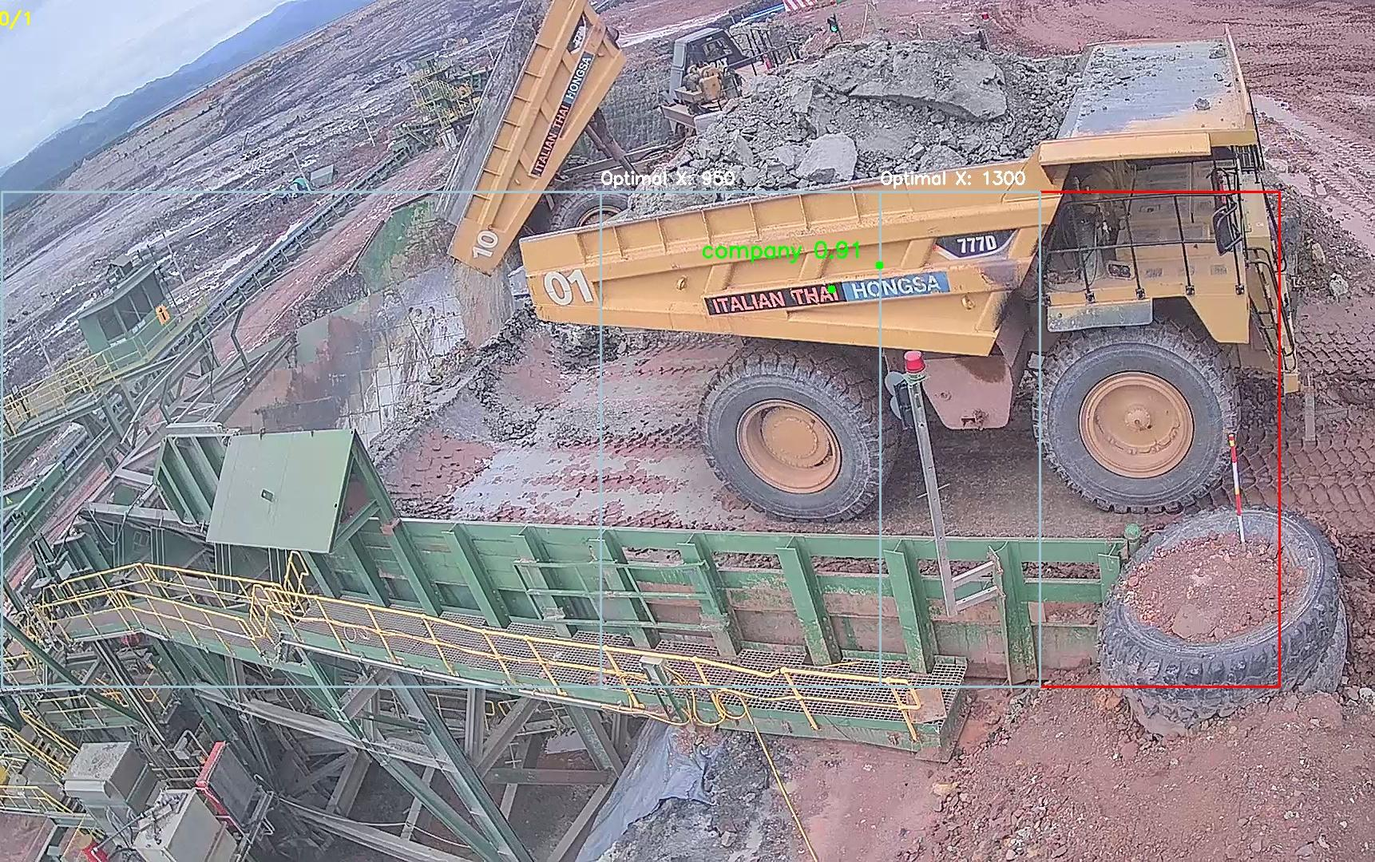company: (699, 265, 959, 322)
full_load: (708, 33, 1069, 204)
mining_truck: (506, 18, 1330, 514)
tail_number: (535, 263, 598, 318)
truck_size: (929, 223, 1015, 261)
